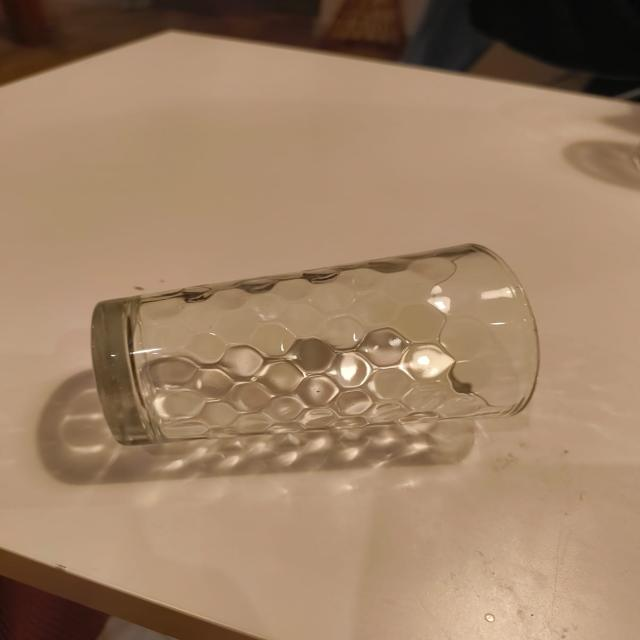ok g2: (91, 241, 541, 447)
